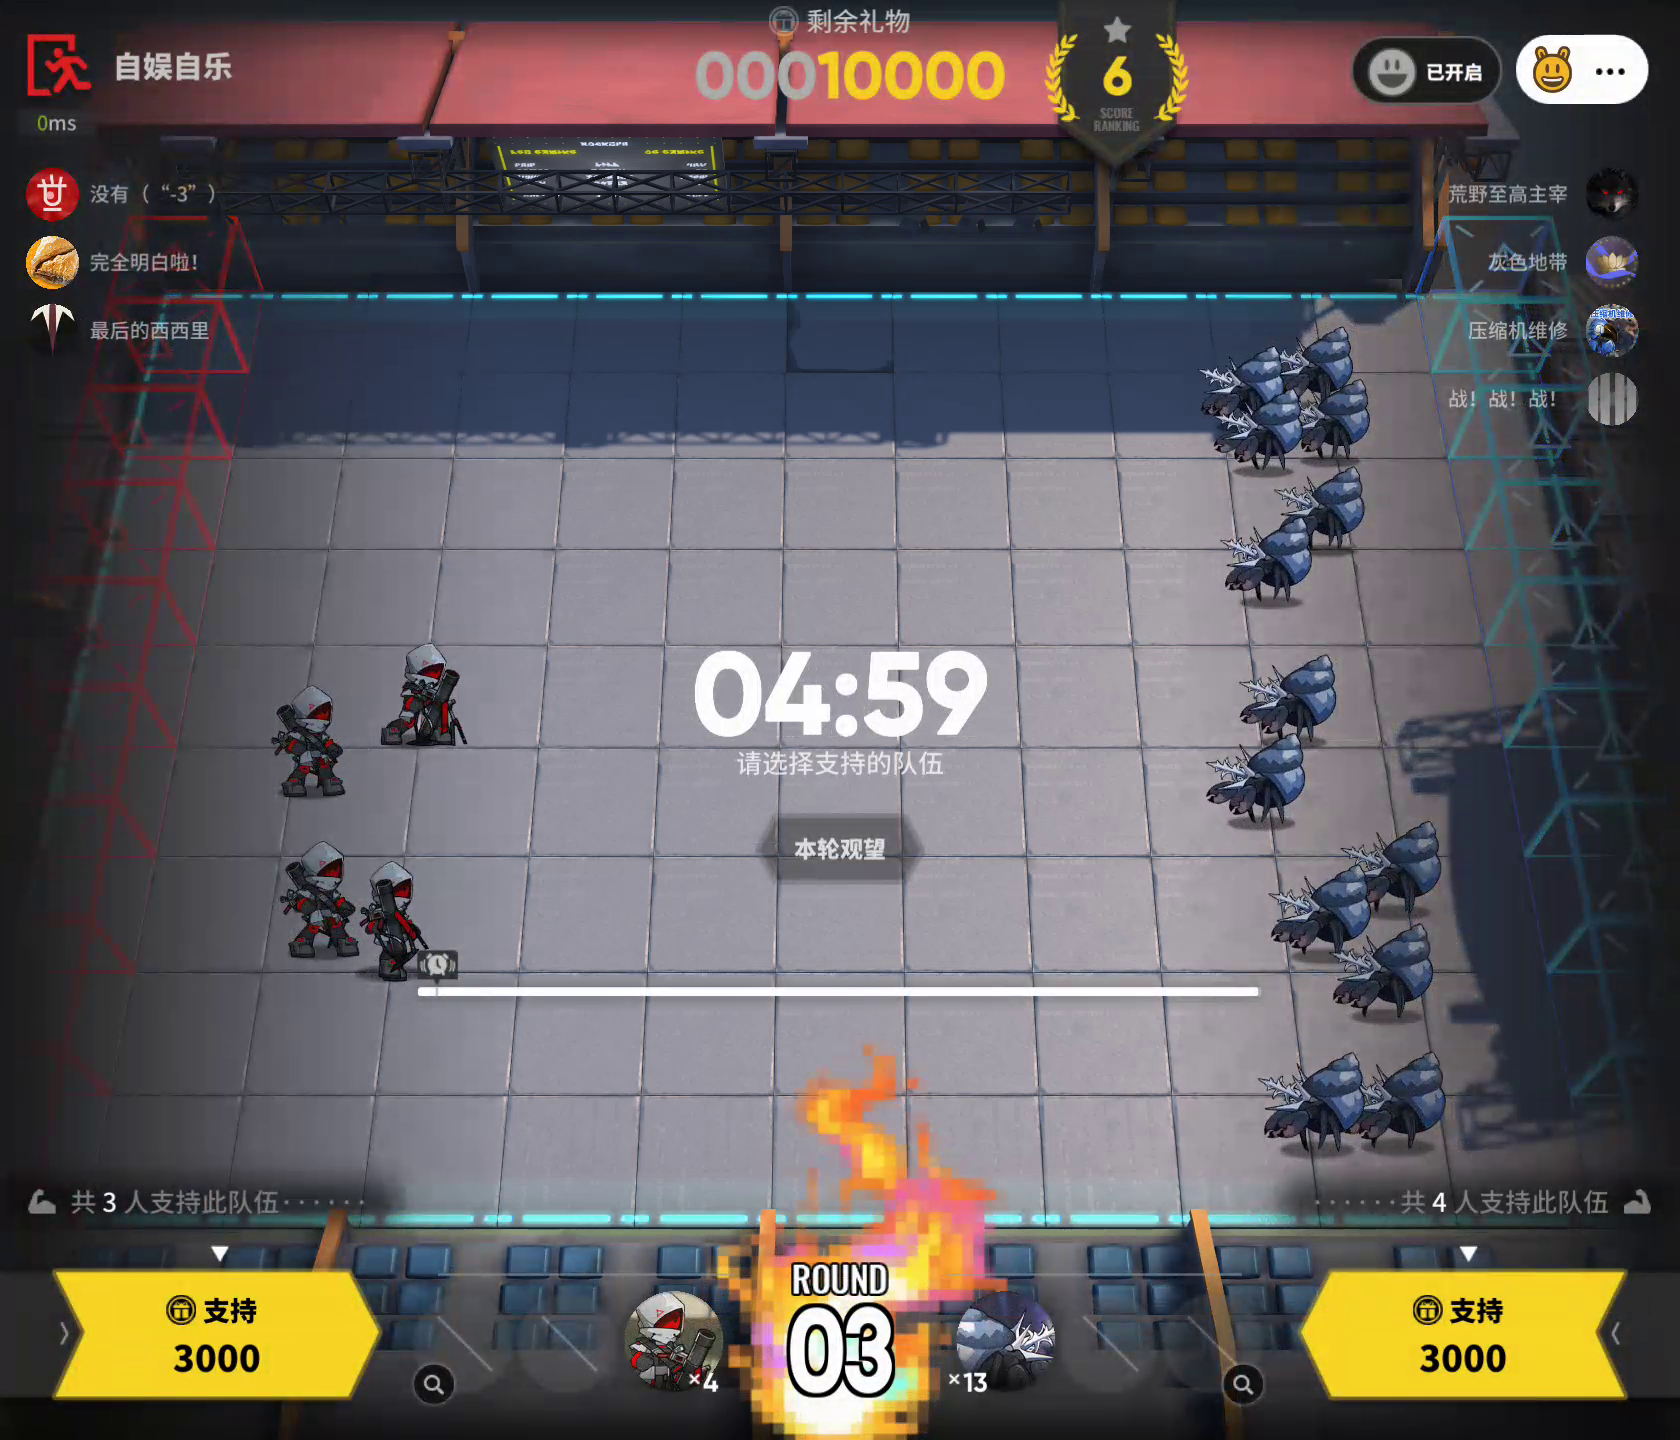小寄居蟹: (1253, 1049, 1371, 1160), (1261, 859, 1380, 969), (954, 1281, 1066, 1396), (1333, 919, 1444, 1031), (1351, 1046, 1459, 1156), (1236, 650, 1347, 751), (1201, 729, 1314, 829), (1264, 459, 1374, 551), (1219, 511, 1319, 609), (1339, 819, 1446, 909), (1291, 371, 1389, 467), (1271, 317, 1363, 411), (1199, 334, 1294, 420), (1217, 387, 1304, 469)
迫击炮弹投手: (364, 624, 481, 754), (254, 674, 364, 806), (269, 839, 371, 973), (626, 1284, 730, 1399), (363, 863, 449, 989)
